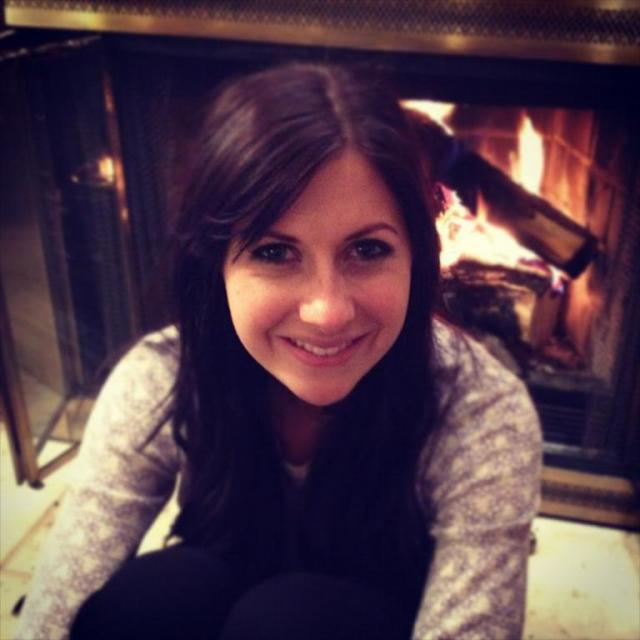Fire: (418, 102, 638, 366)
